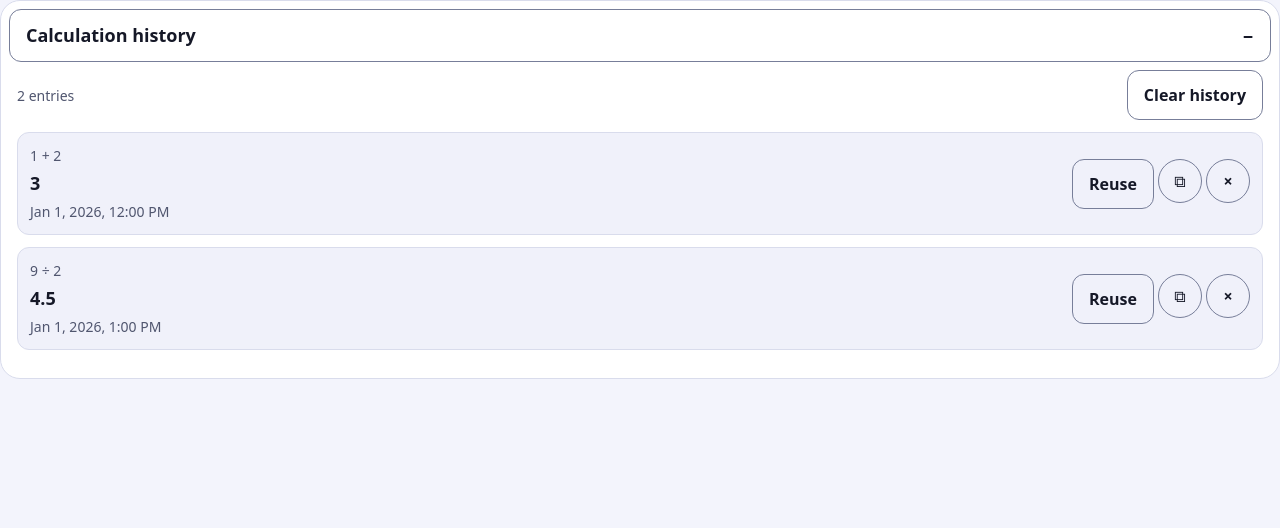
HistoryPanel › requires explicit confirmation, initially focuses cancel, and does not trap focus
Click the button "Clear history".
click(1195, 95)  # box [1127,70,1263,120]
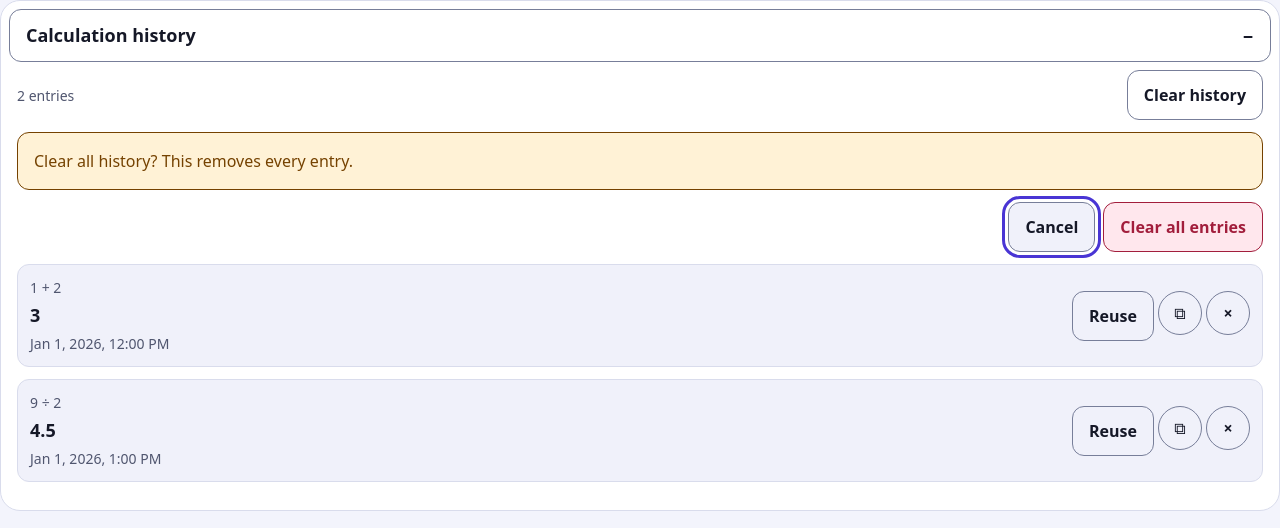
Press Tab
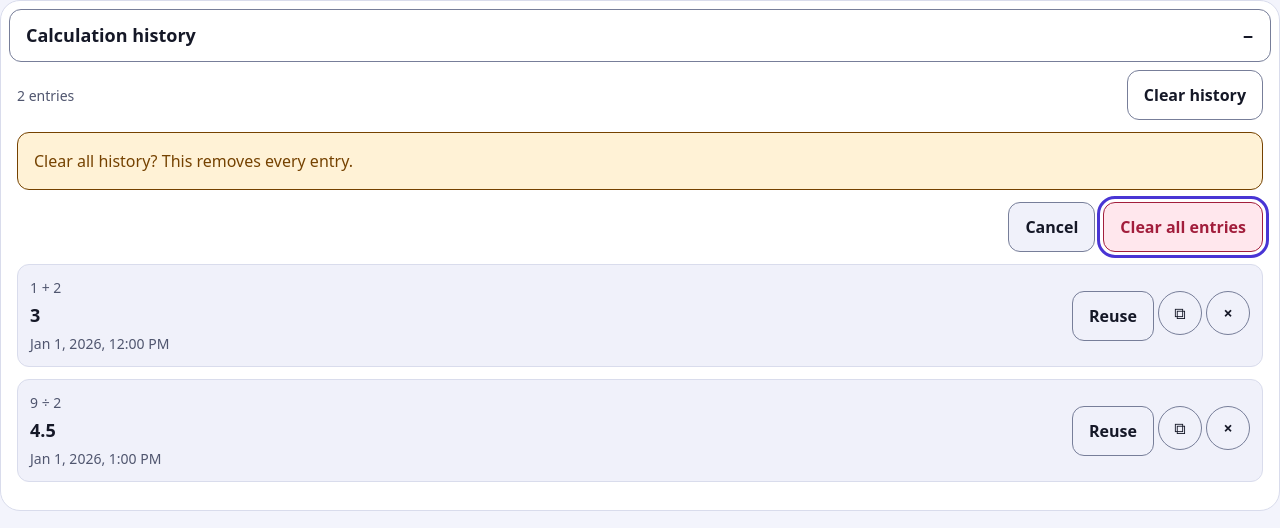
Press Tab
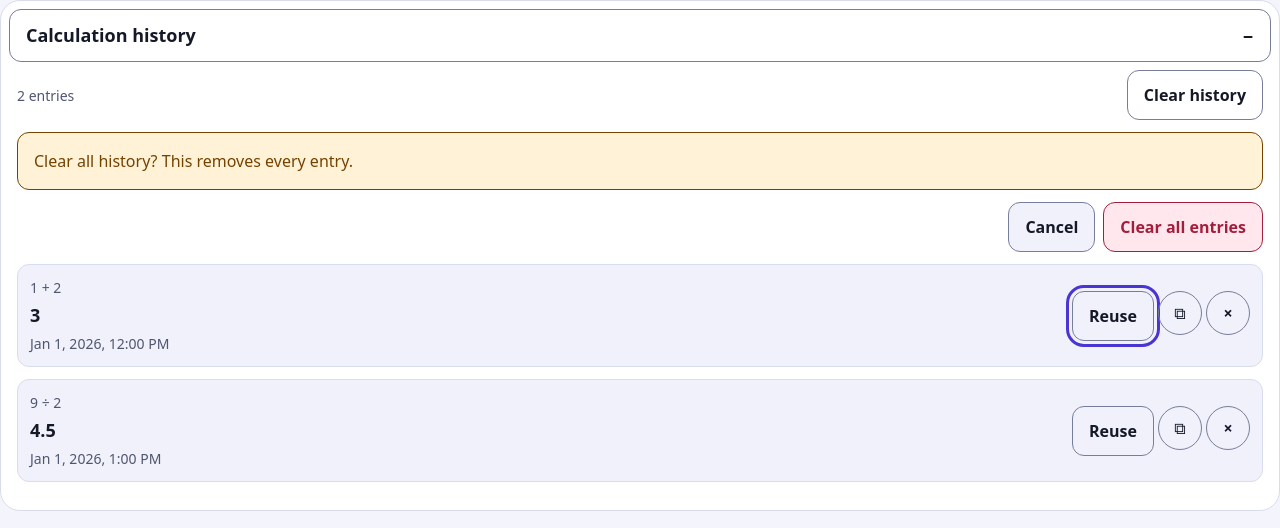
Click the button "Clear all entries".
click(1183, 227)  # box [1103,202,1263,252]
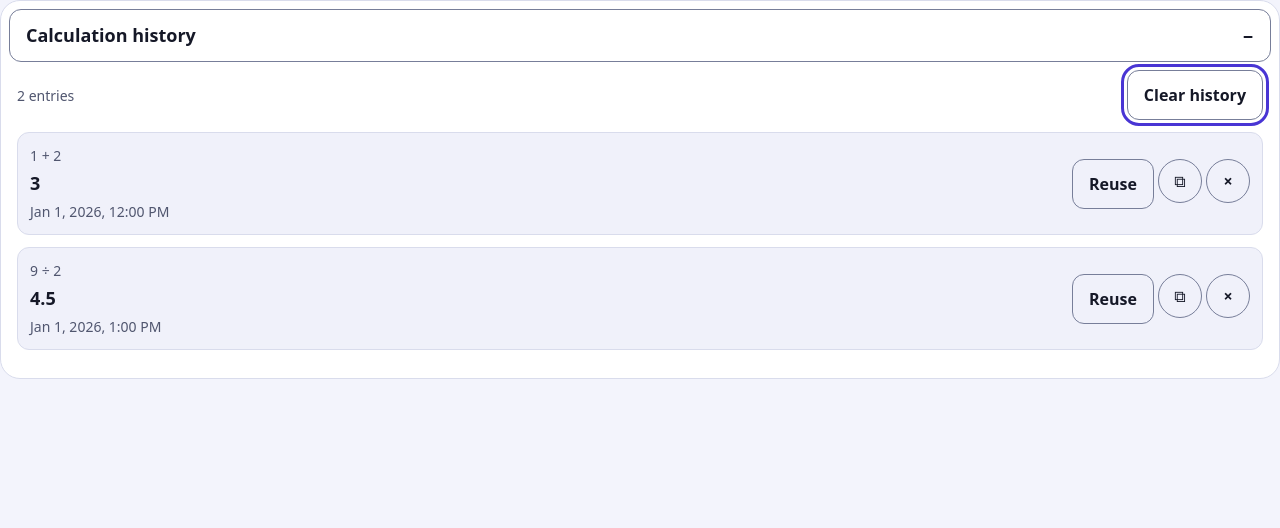
Expected: the number of list items is 2, [17,132,1263,235]; [17,247,1263,350]
Result: the text "Clear all history?" is gone
